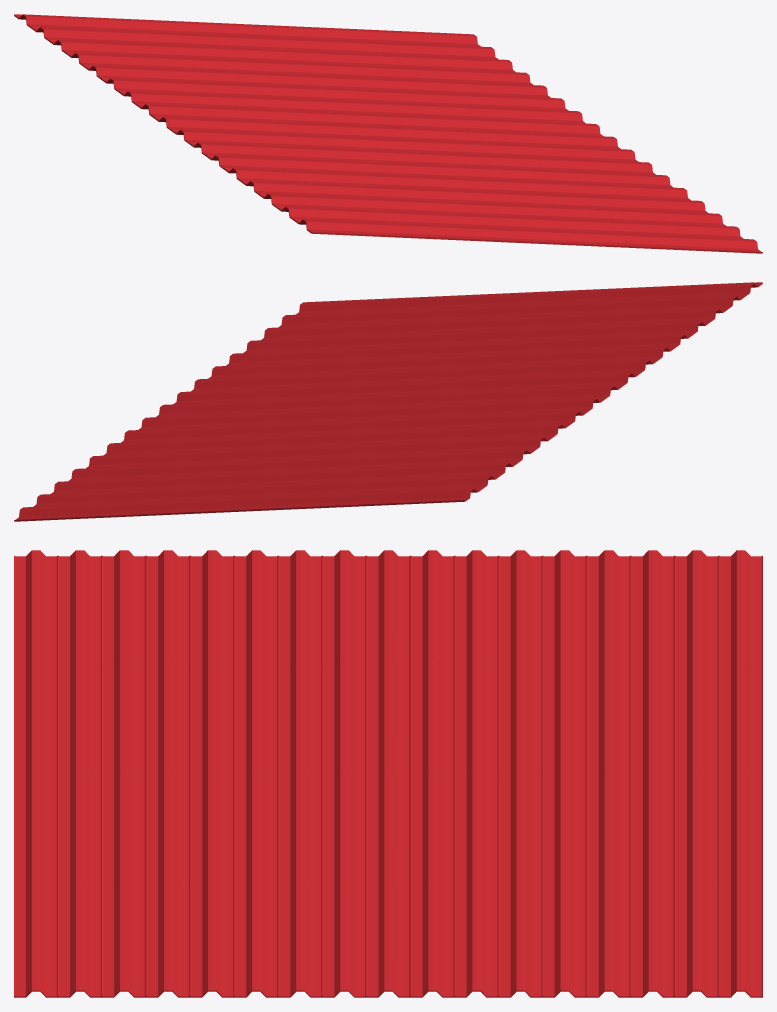
The model's file is profnastilp45_1.glb.
The picture shows the model from 3 angles, top to bottom: view 1: azimuth 30°, elevation 25°; view 2: azimuth 150°, elevation 25°; view 3: azimuth 270°, elevation 25°; orthographic projection. The views are drawn at different scales.
Visible parts, largest first — view 1: PROFNASTIL P45; view 2: PROFNASTIL P45; view 3: PROFNASTIL P45.
Part boxes in pixels (box(x1,y1,x2,y2)): PROFNASTIL P45: box(14, 14, 762, 253); PROFNASTIL P45: box(14, 282, 762, 521); PROFNASTIL P45: box(14, 550, 762, 997).
Size of the model in its own units: 13.7 by 3.94 by 15.6.
